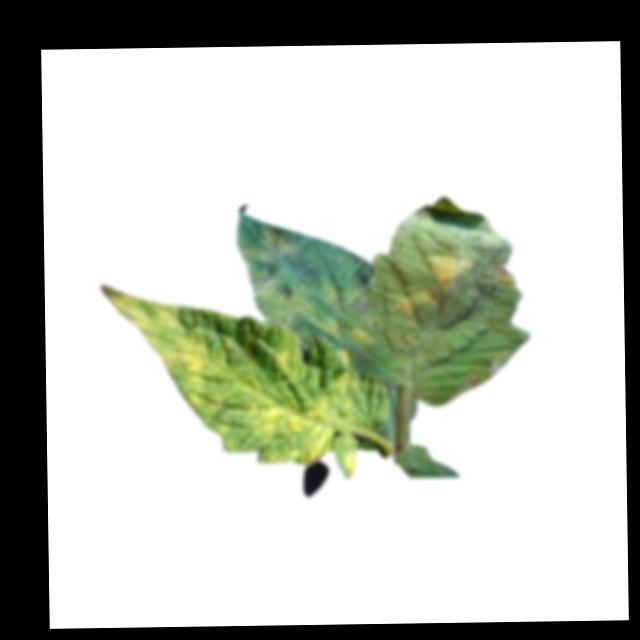Leaf_Mold: (101, 282, 242, 455), (238, 224, 374, 349), (241, 341, 358, 463), (425, 251, 471, 291), (393, 291, 437, 322), (491, 265, 520, 287)
